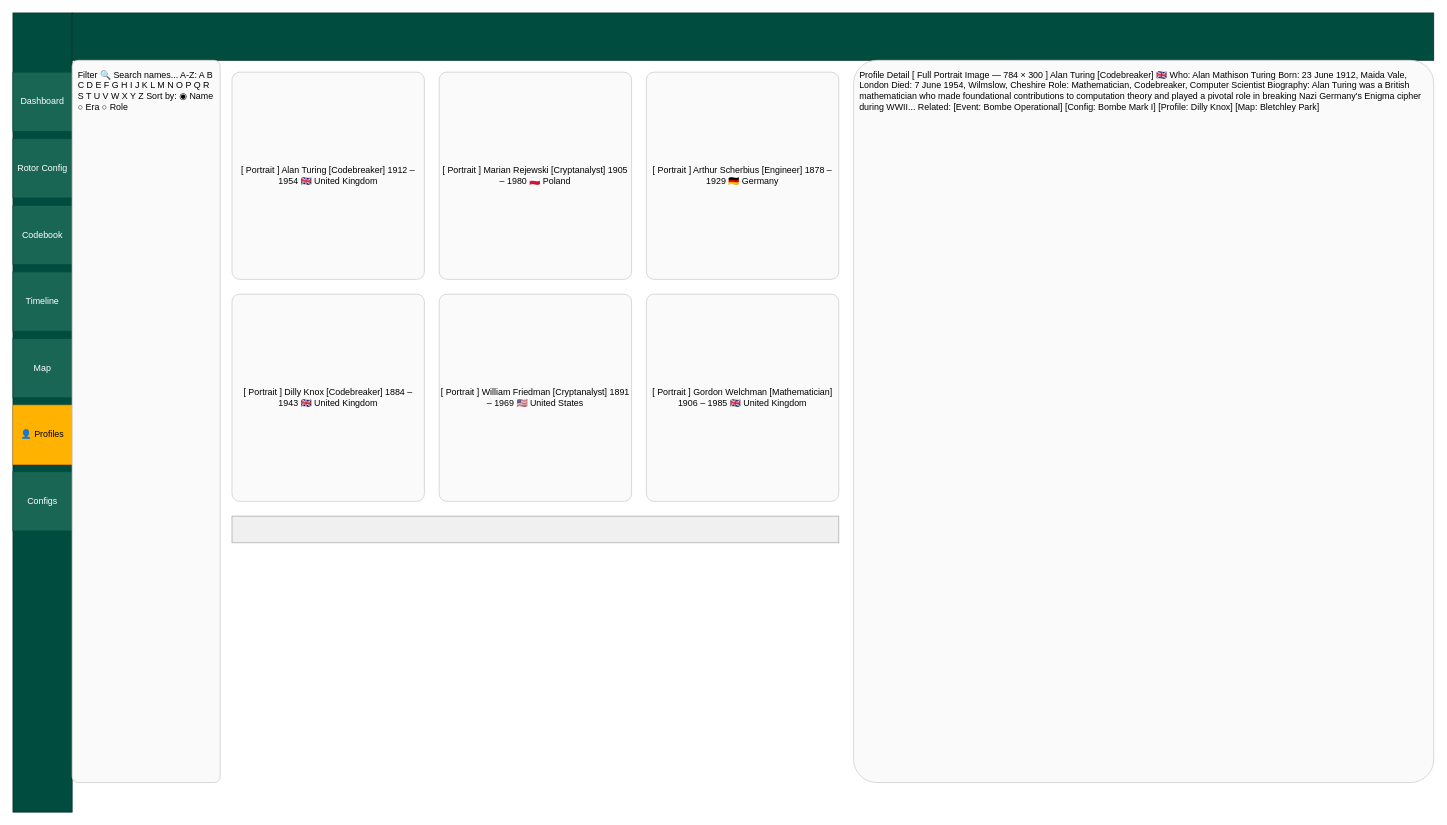
Image size: 1447x825. Some labels were removed from this diagram. Here are the shapes that lost their labels. From the top down, the centre of each, then its label:
the point at 752,36: Historical Profiles
the point at 535,529: ↓ More profiles (scroll)
